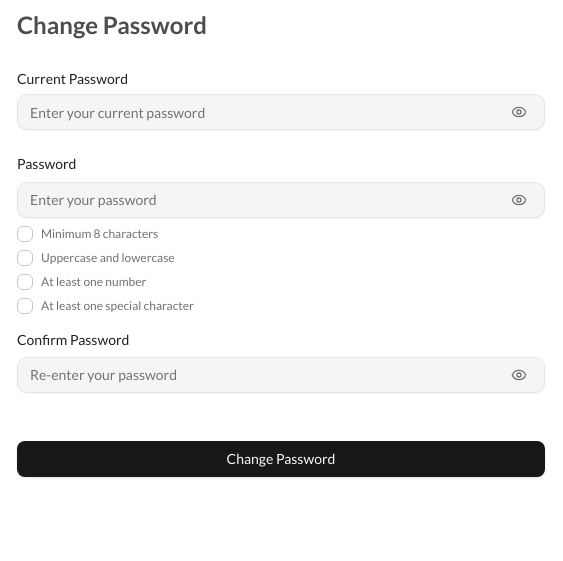
ChangePassword Component › Error Handling › should display error message for invalid current password
Type "OldPass1!" into the password field labelled "Current Password" at (281, 112), box [17,94,545,130]
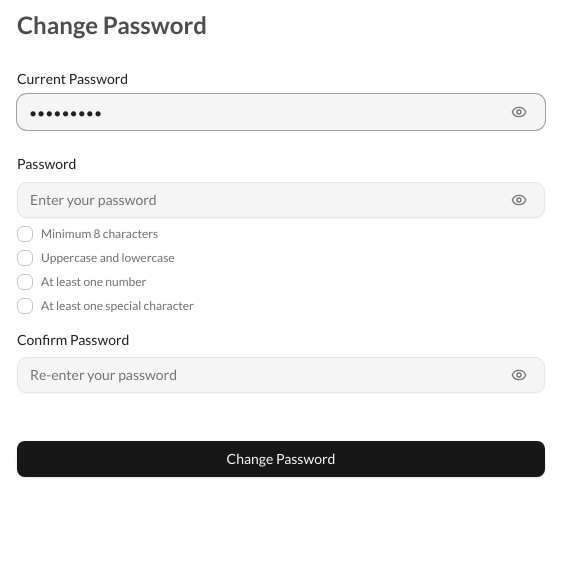
Type "NewPass1!" into the password field labelled "Password" at (281, 200), box [17,182,545,218]
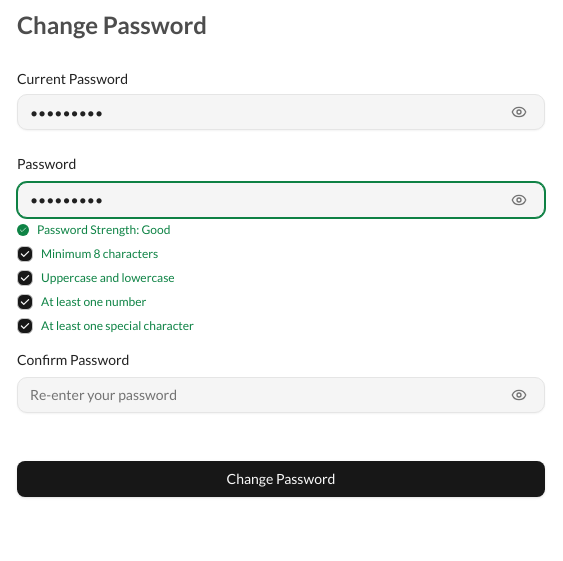
Type "NewPass1!" into the password field labelled "Confirm Password" at (281, 395), box [17,377,545,413]
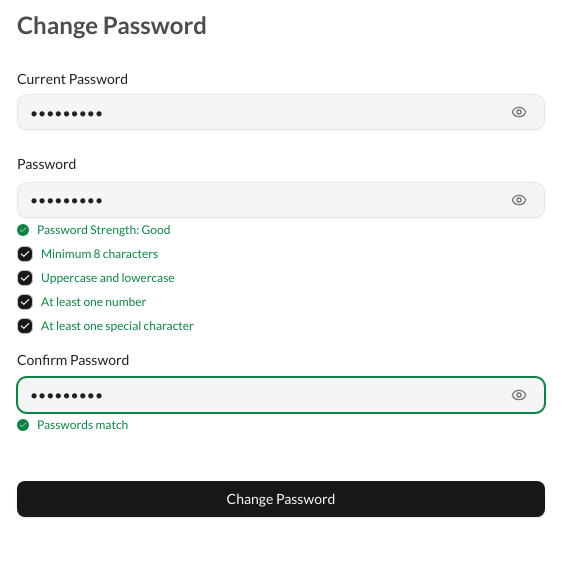
Click the button "Change Password" at (281, 499), box [17,481,545,517]
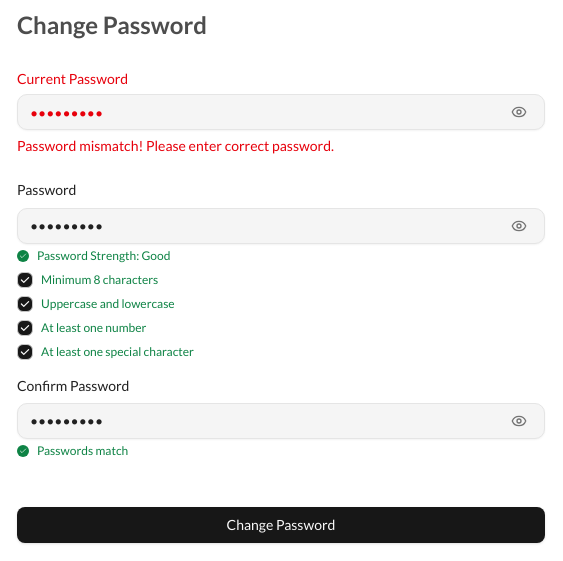
Result: the text "Password mismatch! Please enter correct password." is shown at [17,137,334,154]
